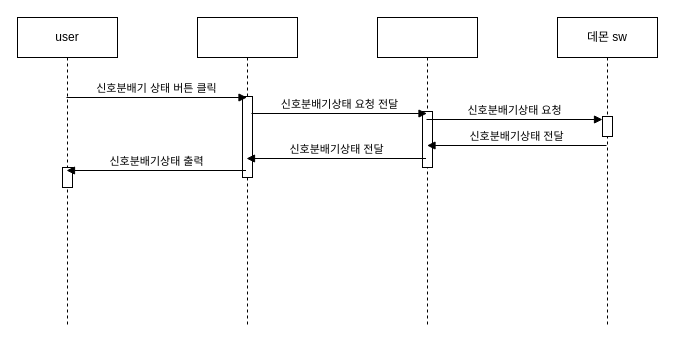
The diagram is 675 pixels wide and 345 high, and some of its shapes have lost their labels. The box of each missing label's shape, as (x1, y1, x2, y2) in pixels:
ui: (196, 16, 298, 328)
데몬 통신 테스터: (376, 16, 478, 328)
